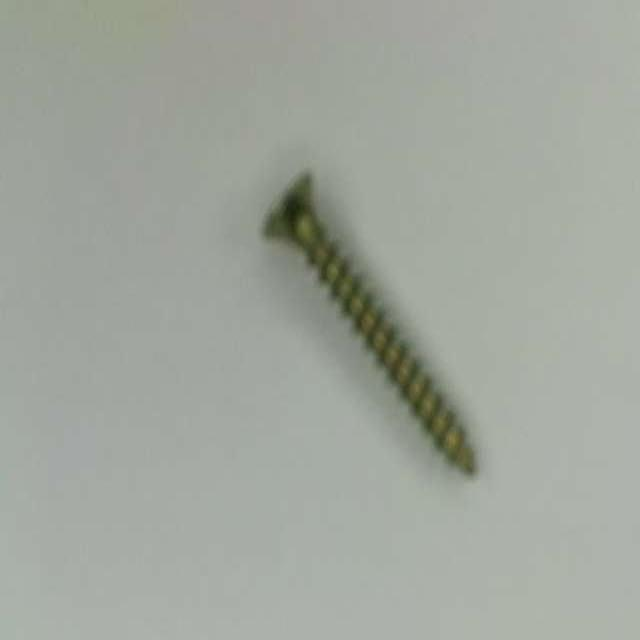Parafuso: (265, 173, 474, 472)
